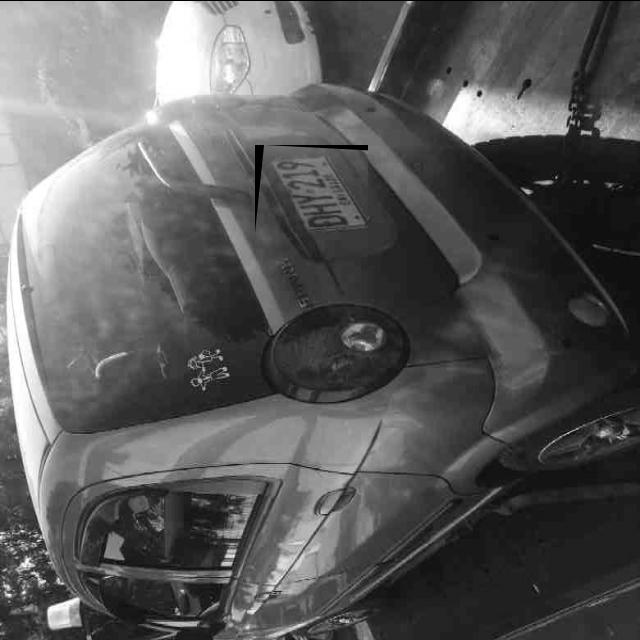plate: (262, 146, 368, 232)
